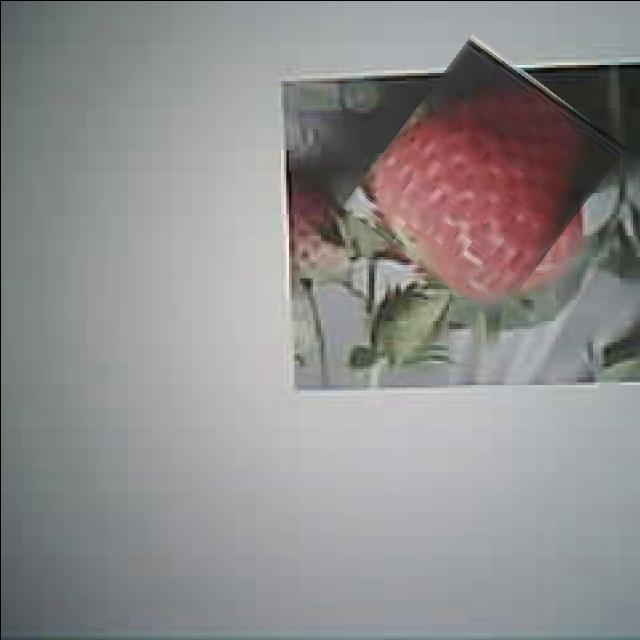strawberry: (363, 49, 602, 304)
